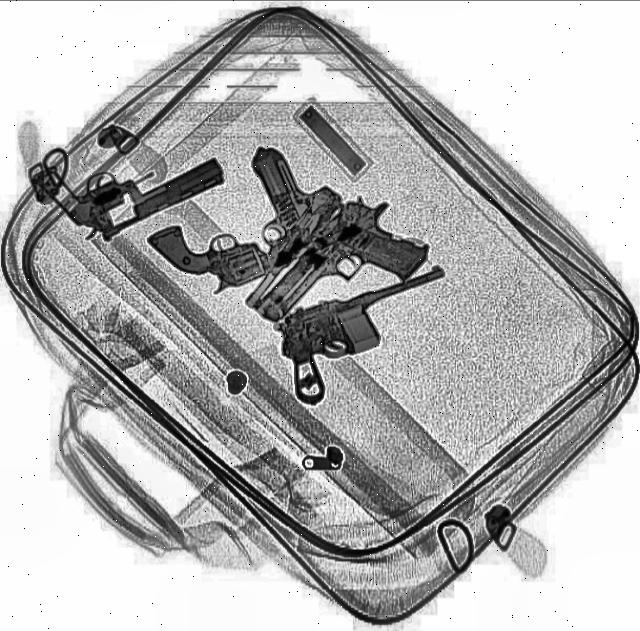Gun: (144, 154, 378, 312), (250, 183, 440, 367), (262, 261, 474, 411), (170, 142, 346, 314), (33, 101, 227, 254)
